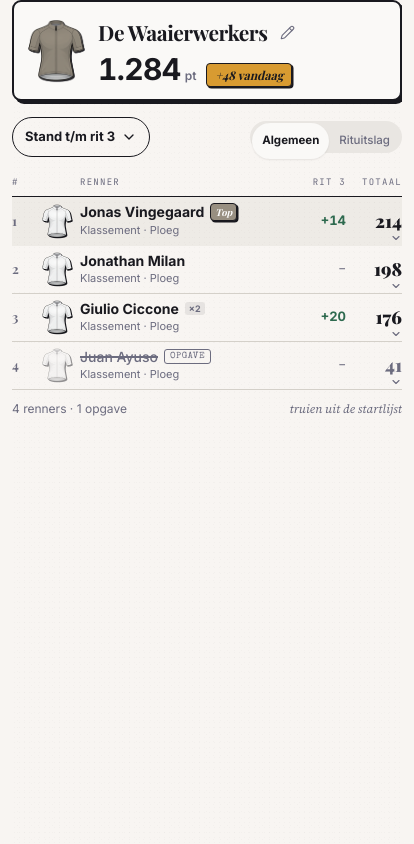
Test: PloegCWeergave › klapt een renner open met de ritten waarin hij scoorde, en weer dicht
Click the button "1 Jonas Vingegaard Top Klassement · Ploeg +14 214". click: (207, 221)
box: [12, 197, 402, 244]
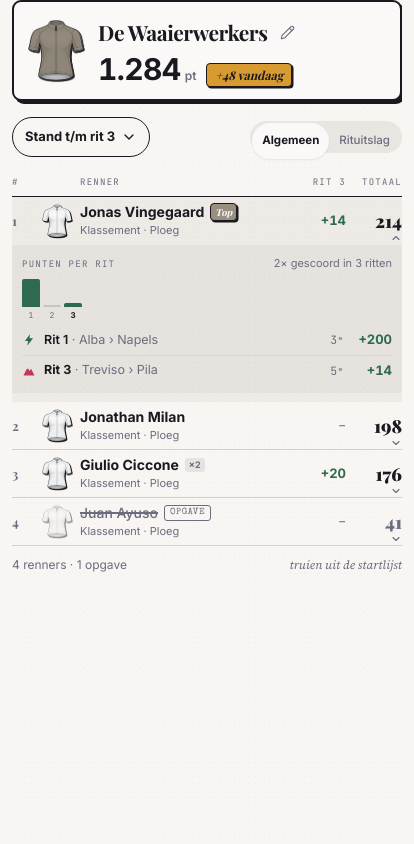
Click the button "1 Jonas Vingegaard Top Klassement · Ploeg +14 214". click: (207, 221)
box: [12, 197, 402, 244]
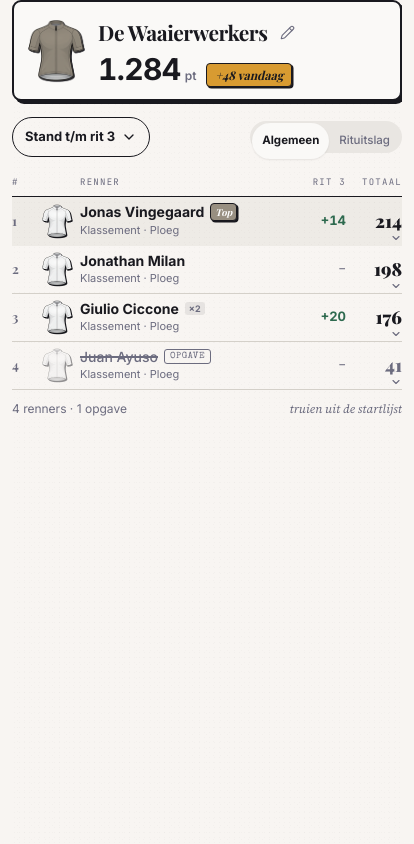
expect the text "Punten per rit" is gone: met
